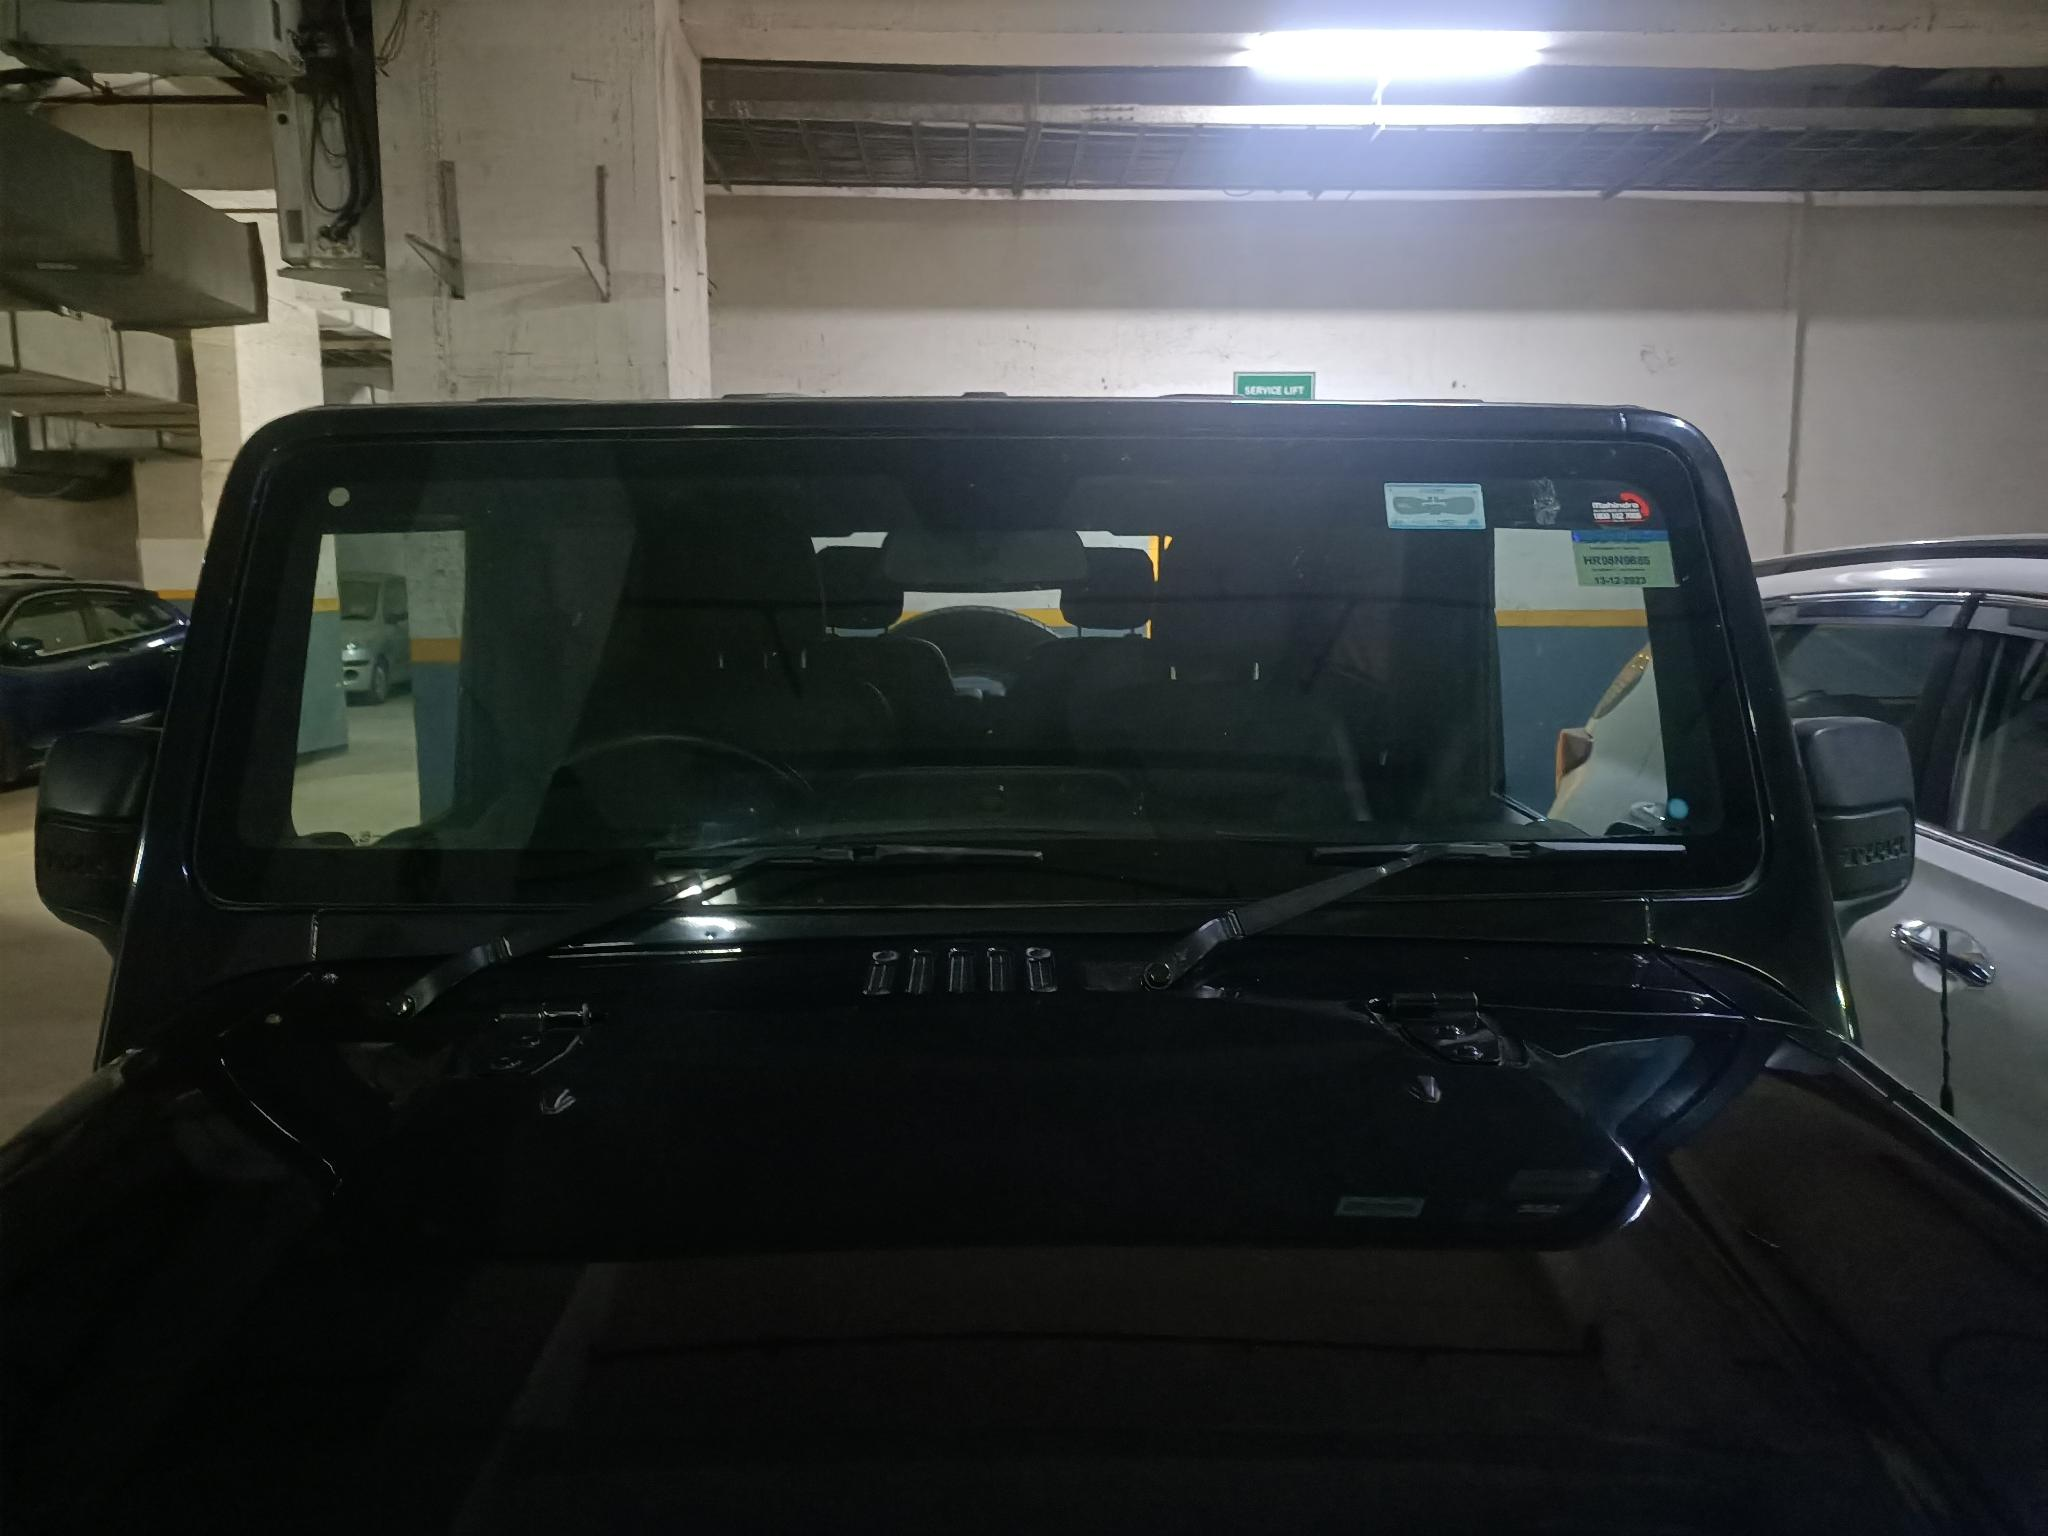FastTag: (1369, 476, 1503, 541)
not a FastTag: (1563, 531, 1680, 597), (1569, 484, 1666, 531)
